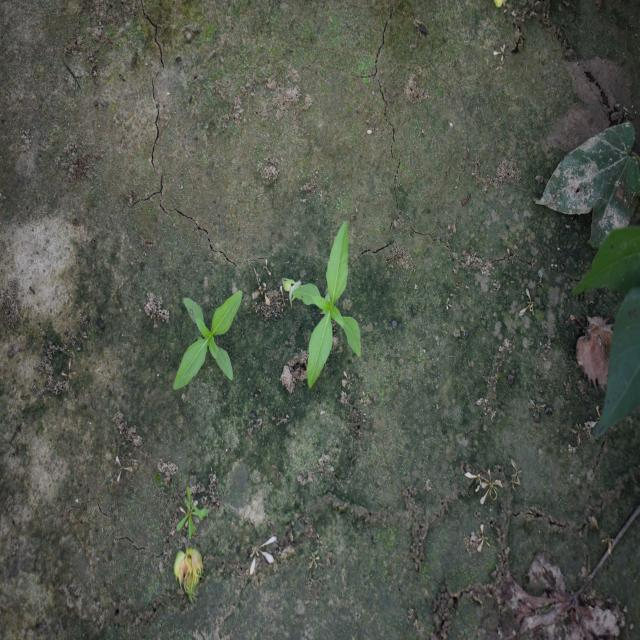Carpetweed: (176, 486, 210, 542)
Eclipta: (288, 221, 362, 391), (172, 289, 244, 392)
